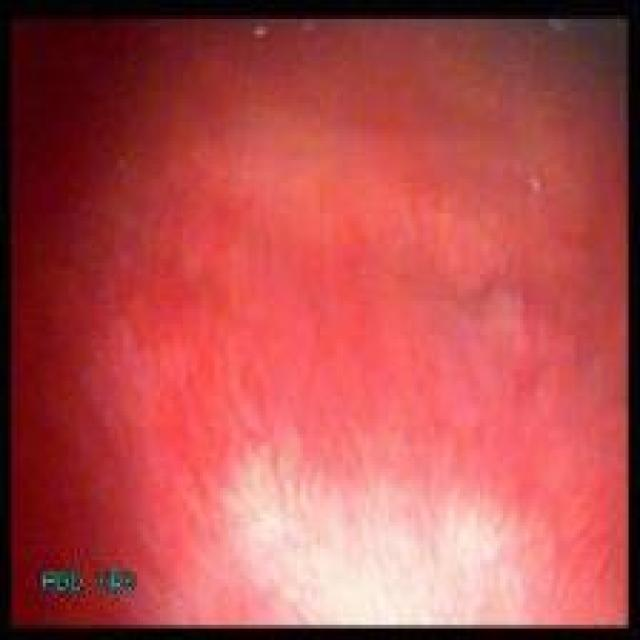color misalignment: (93, 567, 138, 596), (40, 567, 82, 598)
contrast: (13, 20, 178, 220), (510, 18, 625, 104)
saturation: (152, 382, 565, 624)
